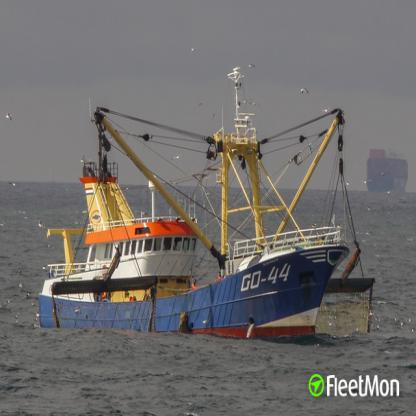Fishing Boat: (39, 64, 376, 339)
Merchant Ship: (366, 148, 409, 195)
